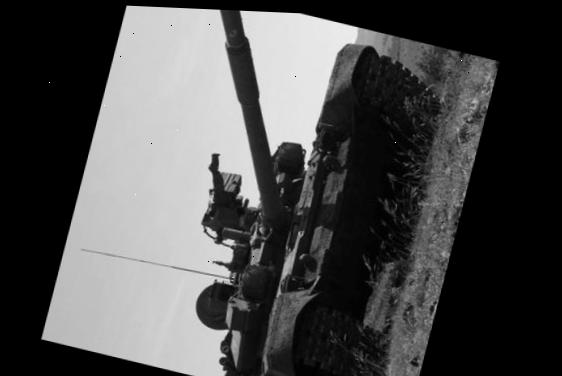tank: (88, 5, 473, 376)
